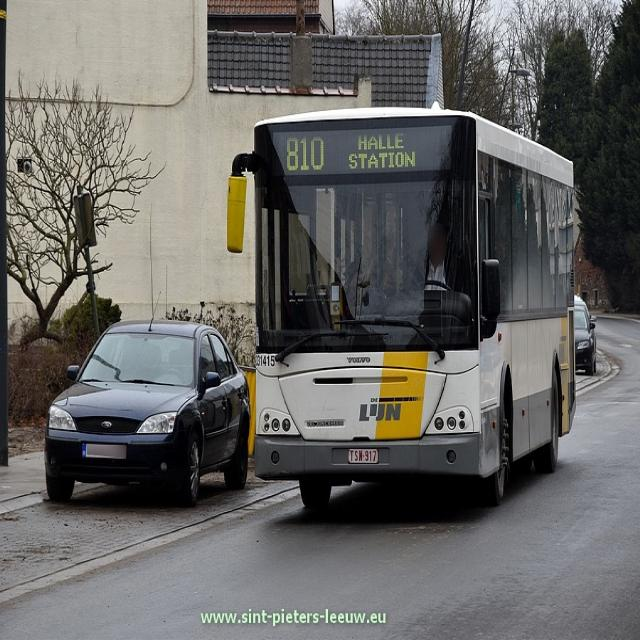bus-number: (284, 133, 326, 174)
